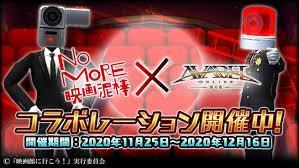no more kid: (35, 3, 95, 48)
